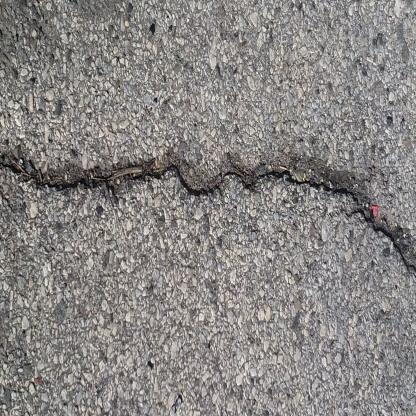Cracks: (0, 138, 416, 326)
